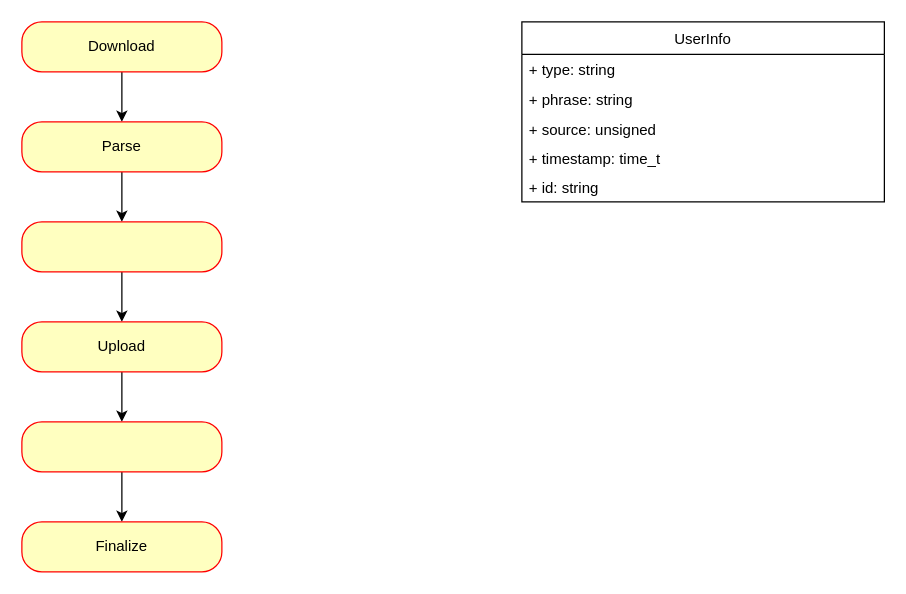
The diagram is 906 pixels wide and 594 high, and some of its shapes have lost their labels. Each missing label, with the centre of its shape:
Group: point (121, 246)
Statistics: point (121, 446)
